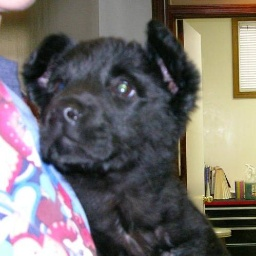dog: (29, 25, 217, 253)
